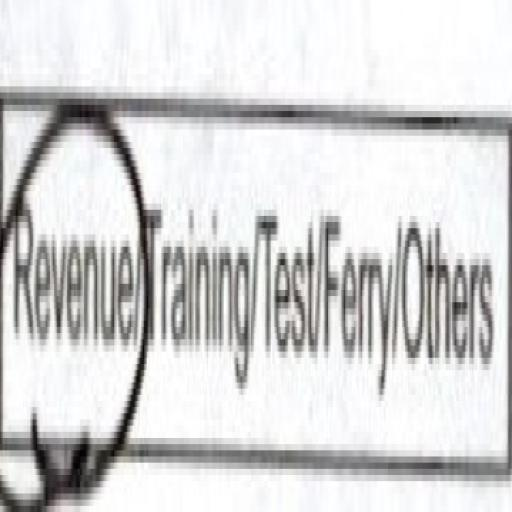check: (0, 80, 143, 506)
